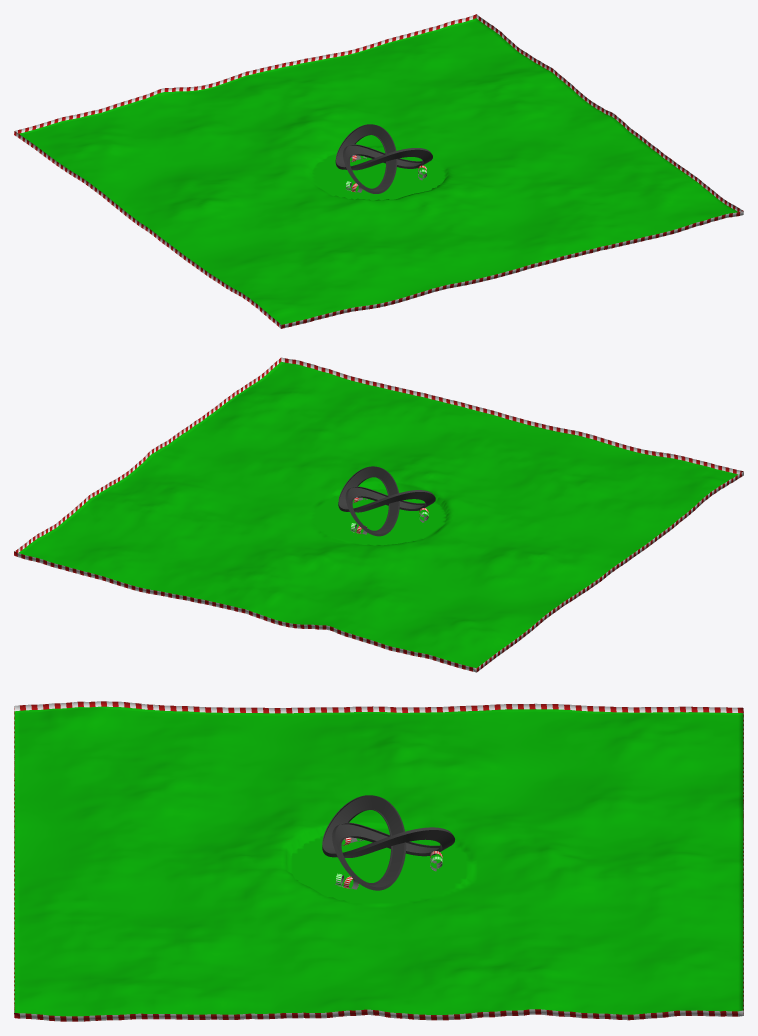
File: TESTES PISTA B.glb
The picture shows the model from 3 angles, top to bottom: view 1: azimuth 30°, elevation 25°; view 2: azimuth 150°, elevation 25°; view 3: azimuth 270°, elevation 25°; orthographic projection. The views are drawn at different scales.
Parts seen in each view (by area): view 1: Landscape.001, Pista.001 Subdividida X 3 Model A.002; view 2: Landscape.001, Pista.001 Subdividida X 3 Model A.002; view 3: Landscape.001, Pista.001 Subdividida X 3 Model A.002.
Boxes of the visible parts, <box> form: Landscape.001: <box>14,14,743,328</box>; Pista.001 Subdividida X 3 Model A.002: <box>335,124,432,193</box>; Landscape.001: <box>14,357,743,672</box>; Pista.001 Subdividida X 3 Model A.002: <box>338,466,435,536</box>; Landscape.001: <box>14,701,743,1021</box>; Pista.001 Subdividida X 3 Model A.002: <box>322,795,454,890</box>.
Bounding box in the file's own units: 5933 × 472 × 5934.
